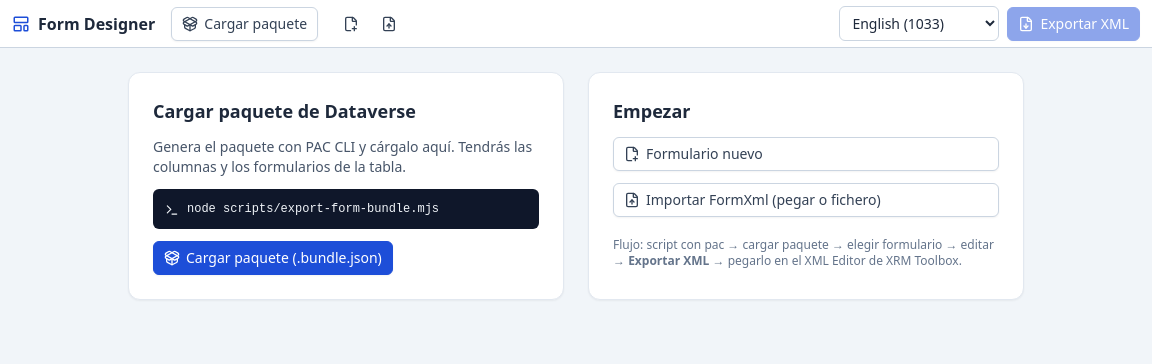
App (smoke) › crea un formulario nuevo y muestra el canvas
Click the button titled "Formulario nuevo": [351, 24] box [334,8,368,38]
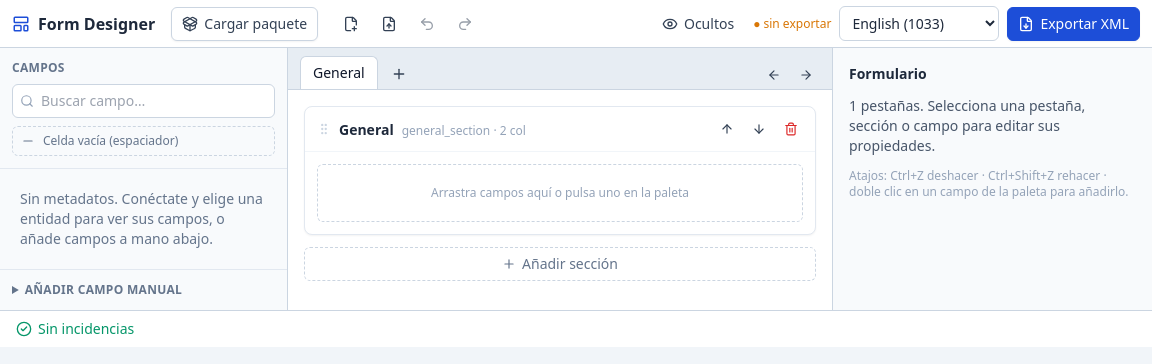
Result: the text "General" is shown at [300,56,378,89]
Result: the text "Añadir sección" is shown at [304,247,816,281]
